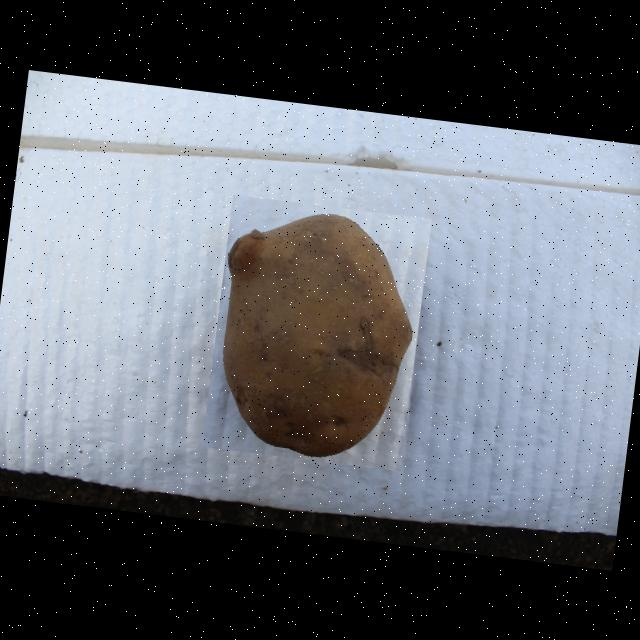Diseased-fungal potato: (202, 194, 431, 470)
